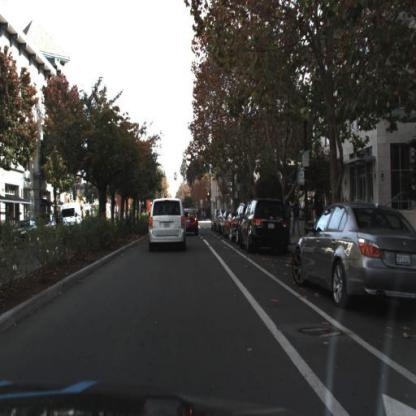car: (292, 189, 416, 312), (144, 192, 192, 261), (239, 196, 293, 256), (237, 197, 292, 253), (178, 199, 202, 240), (60, 199, 83, 236), (229, 204, 248, 242), (11, 219, 41, 243), (8, 221, 39, 244), (60, 201, 83, 232), (39, 213, 59, 241), (36, 212, 57, 235), (222, 210, 236, 241)
pedestrian: (311, 186, 326, 238), (290, 193, 304, 242), (304, 199, 315, 235)
trafficLight-Red: (207, 190, 213, 202), (162, 193, 170, 201)
